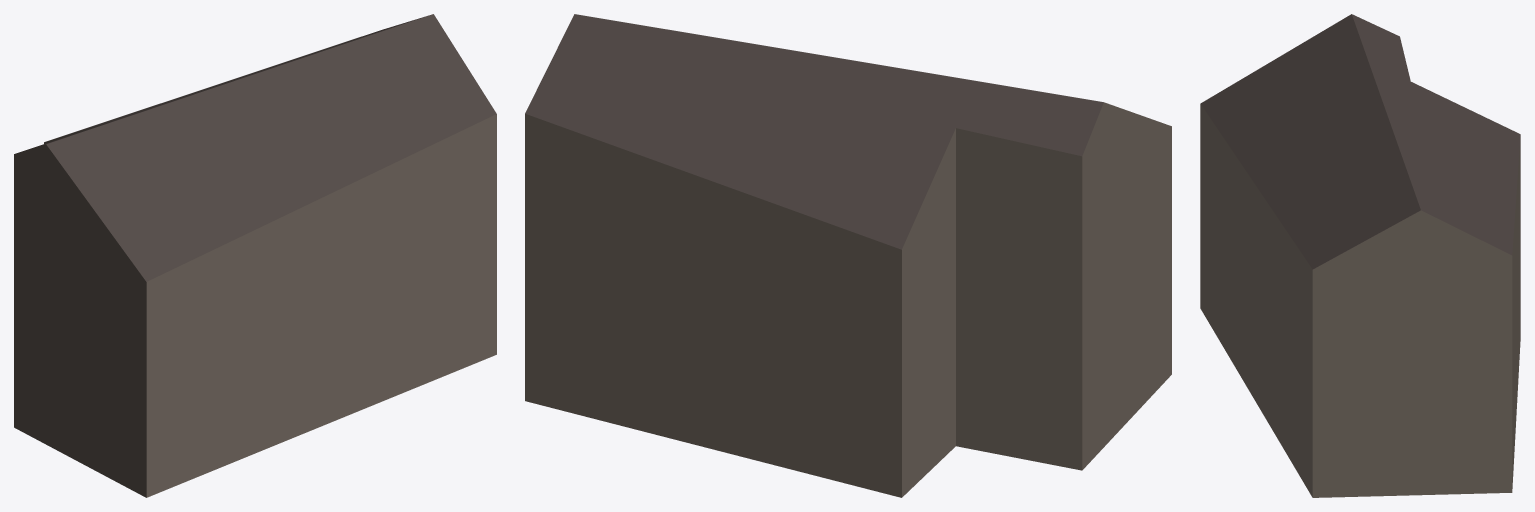
The picture shows the model from 3 angles, left to right: view 1: azimuth 30°, elevation 25°; view 2: azimuth 150°, elevation 25°; view 3: azimuth 270°, elevation 25°; orthographic projection. The views are drawn at different scales.
Parts seen in each view (by area): view 1: HP-w1512965870; view 2: HP-w1512965870; view 3: HP-w1512965870.
Boxes of the visible parts, x1,y1,x2,y2 form: HP-w1512965870: (14,14,496,497); HP-w1512965870: (525,14,1171,497); HP-w1512965870: (1200,14,1520,497).
Size of the model in its own units: 12.7 by 8.35 by 8.5.
